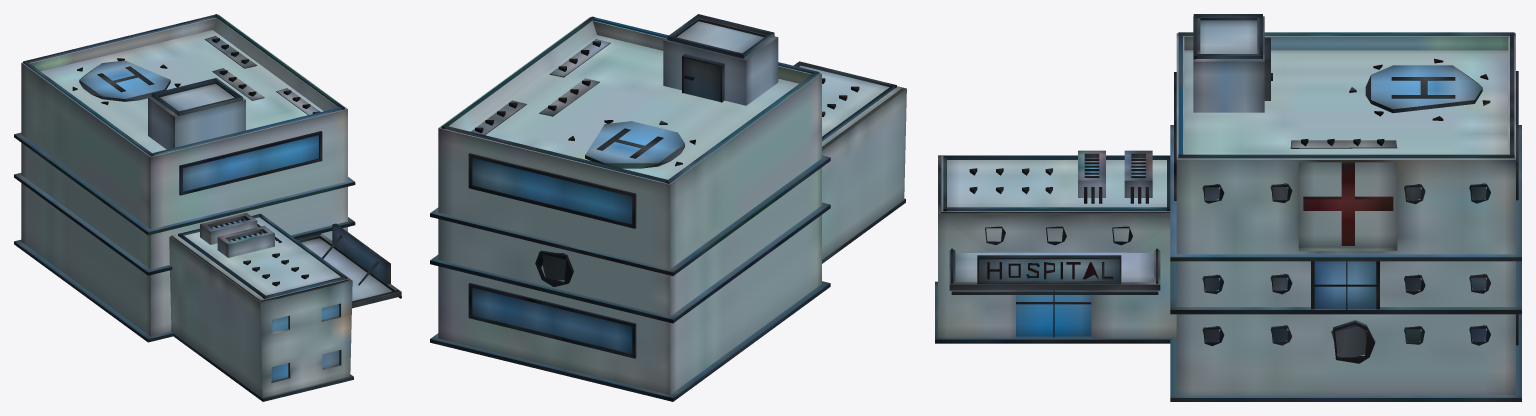
Rendered from Hospital.lod.glb.
3 views of the same model, side by side, from view 1: azimuth 30°, elevation 25°; view 2: azimuth 150°, elevation 25°; view 3: azimuth 270°, elevation 25° (orthographic). The views are drawn at different scales.
Visible parts, largest first — view 1: Node; view 2: Node; view 3: Node.
Part boxes in pixels (x1,y1,x2,y2): Node: (14,14,401,401); Node: (430,14,906,401); Node: (935,14,1521,401).
Bounding box in the file's own units: 334 × 329 × 625.
Materials: 1 (1 with a texture image).
